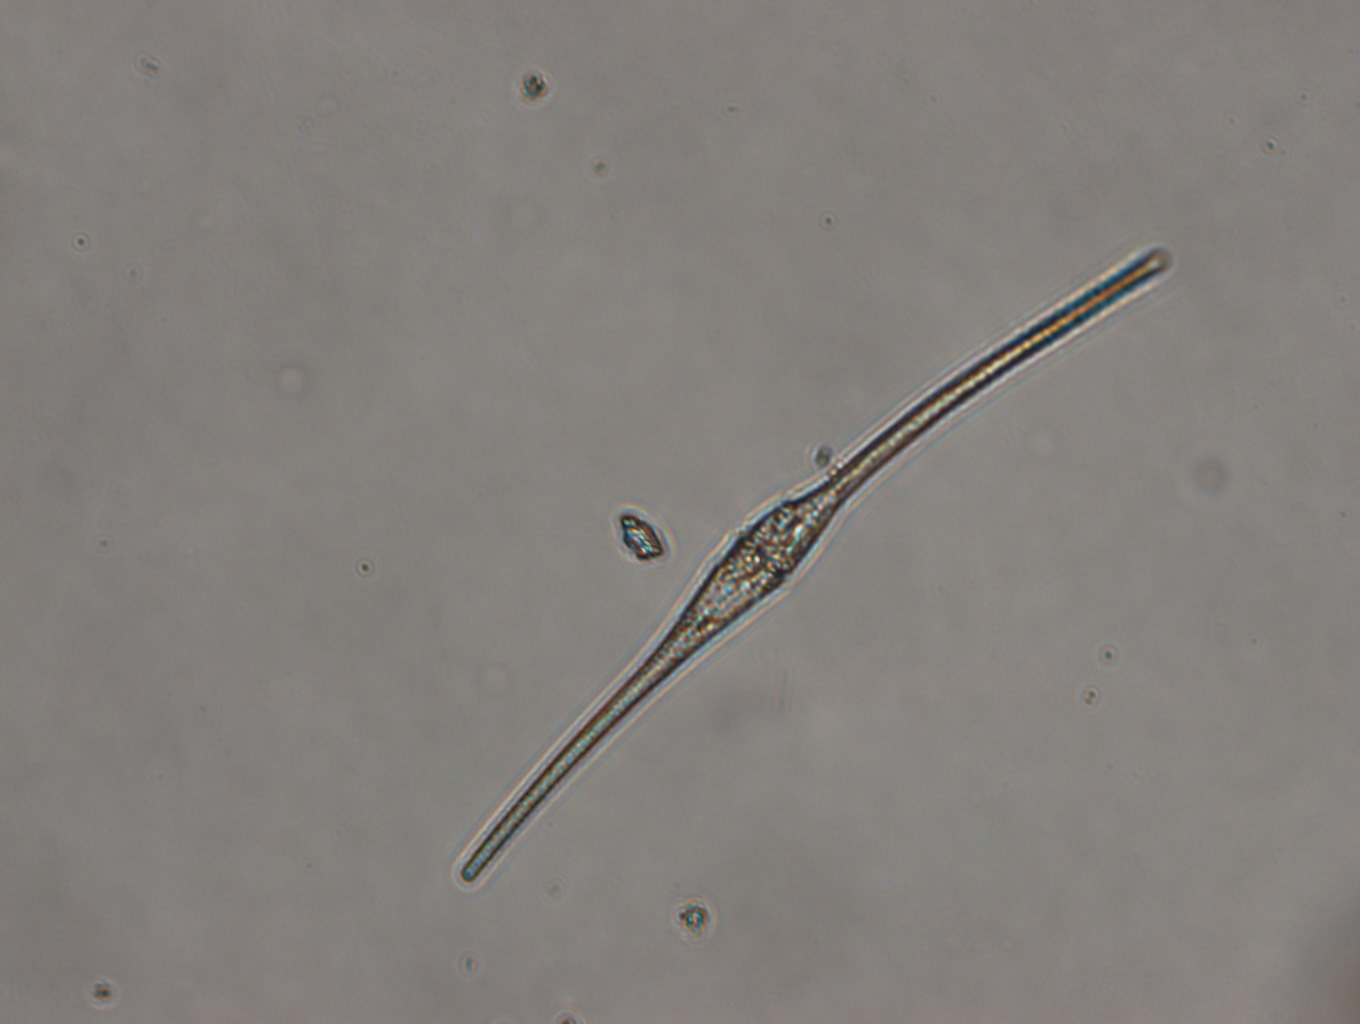ceratium fusus: (452, 242, 1175, 892)
